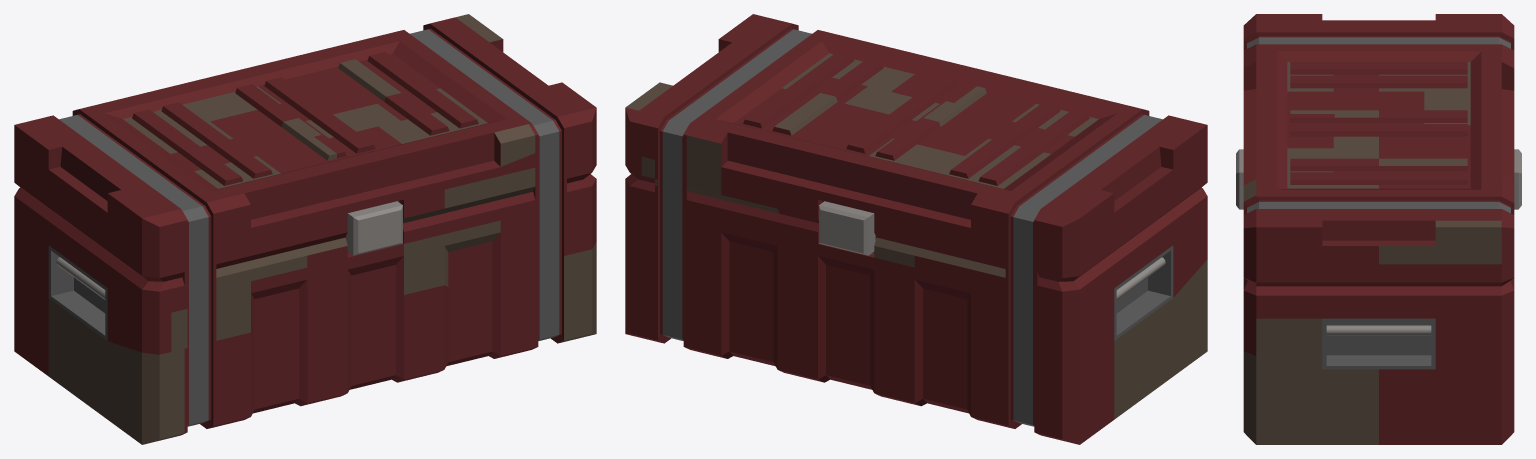
The model's file is quaternius-zombie-apocalypse-kit-march-chest-special.glb.
3 renders of one model, left to right at view 1: azimuth 30°, elevation 25°; view 2: azimuth 150°, elevation 25°; view 3: azimuth 270°, elevation 25°, orthographic. The views are drawn at different scales.
Parts seen in each view (by area): view 1: Chest_Special; view 2: Chest_Special; view 3: Chest_Special.
Boxes of the visible parts, x1,y1,x2,y2 form: Chest_Special: [14, 14, 596, 444]; Chest_Special: [625, 14, 1207, 444]; Chest_Special: [1236, 14, 1521, 444].
Bounding box in the file's own units: 0.8524 × 0.4062 × 0.483.
Materials: 1 (1 with a texture image).
